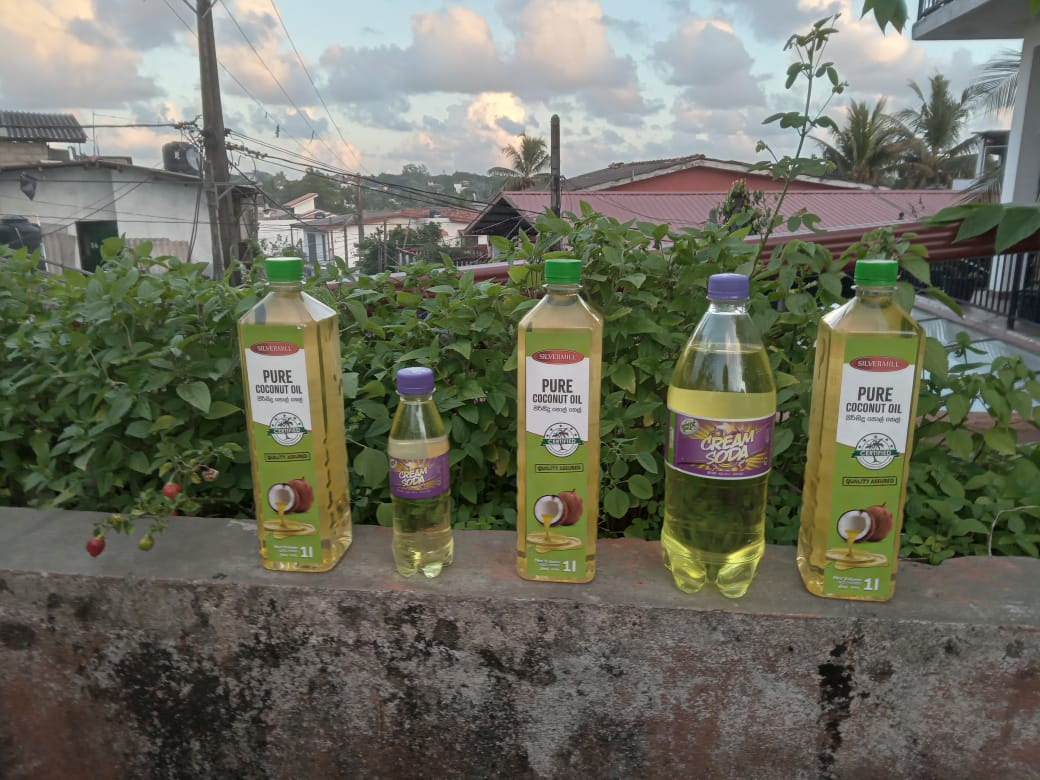M: (659, 269, 776, 598)
Xs: (385, 367, 459, 581)
